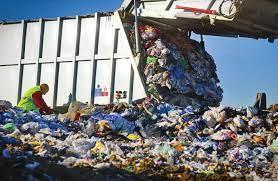garbage: (2, 108, 278, 181), (116, 14, 232, 107)
